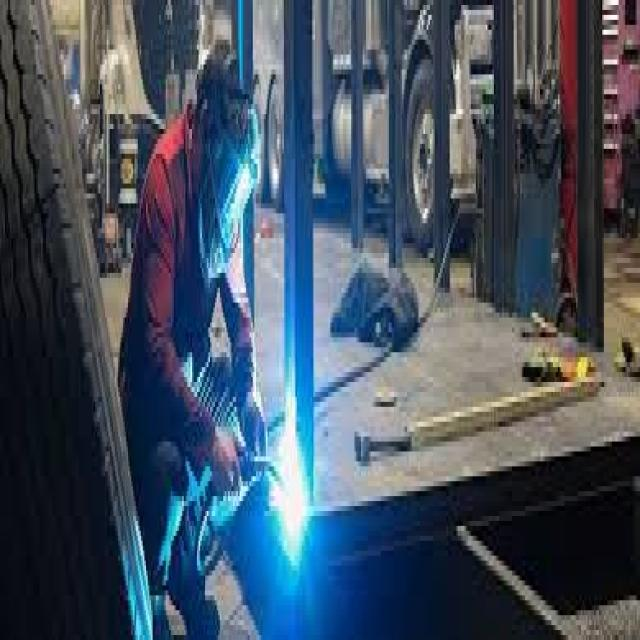welding: (278, 452, 310, 547)
